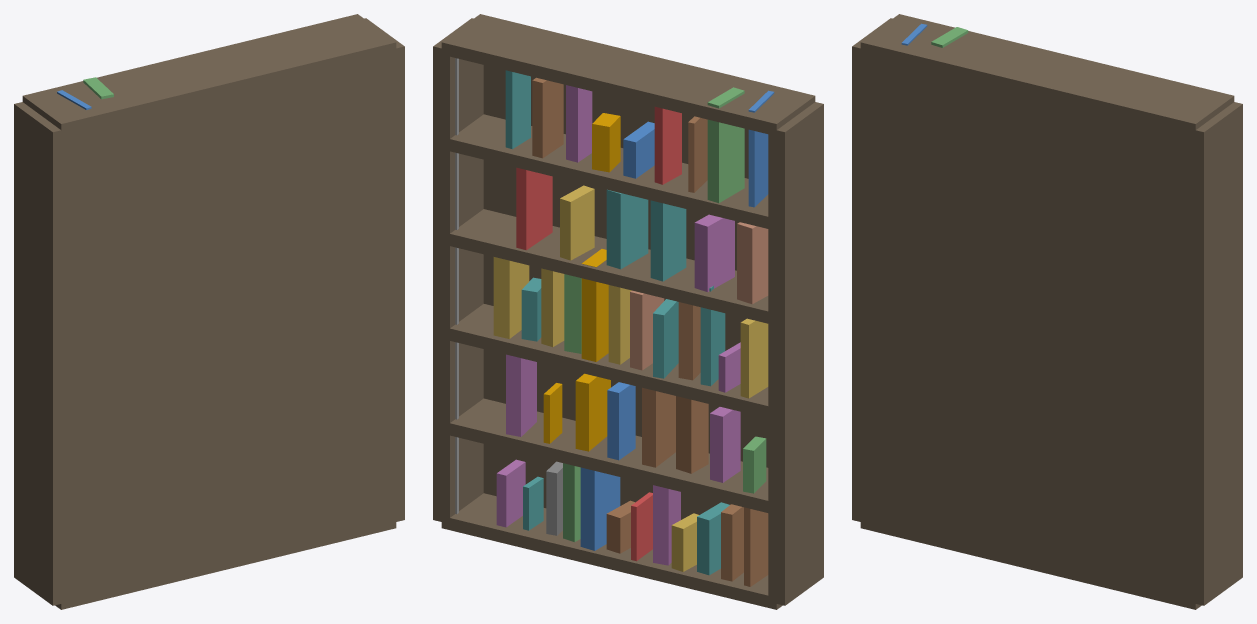
3 renders of one model, left to right at view 1: azimuth 30°, elevation 25°; view 2: azimuth 150°, elevation 25°; view 3: azimuth 330°, elevation 25°, orthographic.
Visible parts, largest first — view 1: Cube.004, Cube, Cube.010, Cube.002, Cube.005, Cube.006, Cube.007, Cube.009, Cube.008; view 2: Cube, Cube.002, Cube.010, Cube.004, Cube.006, Cube.008, Cube.009, Cube.005, Cube.007, Book.039, Book.035, Book.033 (+45 smaller); view 3: Cube.004, Cube.002, Cube.010, Cube, Cube.005, Cube.006, Cube.007, Cube.008, Cube.009.
Boxes of the visible parts, bbox=[...] form: Cube.004: bbox=[61, 50, 395, 595]; Cube: bbox=[14, 102, 69, 605]; Cube.010: bbox=[22, 14, 396, 131]; Cube.002: bbox=[364, 18, 404, 523]; Cube.005: bbox=[55, 516, 396, 609]; Cube.006: bbox=[61, 421, 395, 514]; Cube.007: bbox=[62, 326, 396, 420]; Cube.009: bbox=[62, 137, 396, 228]; Cube.008: bbox=[62, 234, 389, 322]; Cube: bbox=[768, 102, 823, 605]; Cube.002: bbox=[433, 18, 483, 523]; Cube.010: bbox=[441, 14, 815, 134]; Cube.004: bbox=[483, 65, 768, 519]; Cube.006: bbox=[441, 398, 776, 514]; Cube.008: bbox=[441, 209, 775, 324]; Cube.009: bbox=[441, 114, 776, 229]; Cube.005: bbox=[441, 493, 782, 609]; Cube.007: bbox=[441, 304, 775, 419]; Book.039: bbox=[707, 87, 744, 203]; Book.035: bbox=[606, 189, 648, 269]; Book.033: bbox=[694, 214, 734, 292]; Cube.004: bbox=[861, 49, 1195, 595]; Cube.002: bbox=[1187, 102, 1242, 605]; Cube.010: bbox=[860, 14, 1234, 134]; Cube: bbox=[852, 18, 892, 523]; Cube.005: bbox=[860, 516, 1201, 609]; Cube.006: bbox=[860, 421, 1195, 514]; Cube.007: bbox=[860, 326, 1194, 419]; Cube.008: bbox=[860, 233, 1194, 322]; Cube.009: bbox=[860, 137, 1195, 228].
Bounding box in the file's own units: 2.1 × 2.79 × 0.4.
